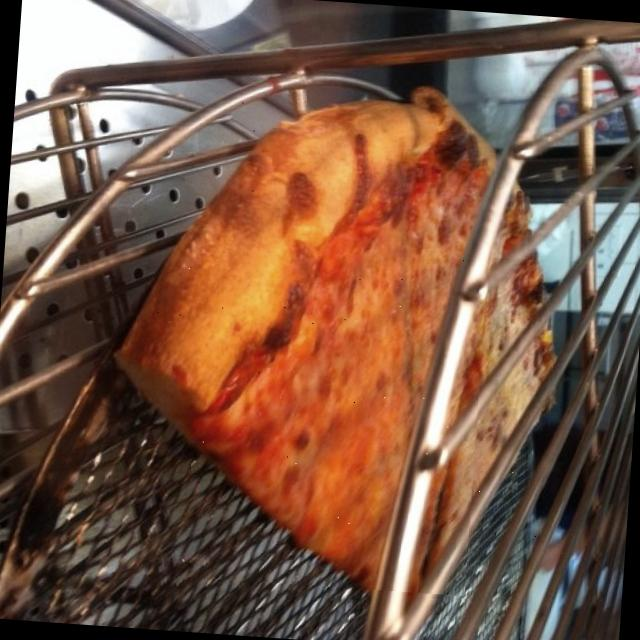pizza: (118, 88, 494, 588), (409, 329, 552, 595), (445, 259, 541, 423), (490, 190, 528, 263)
